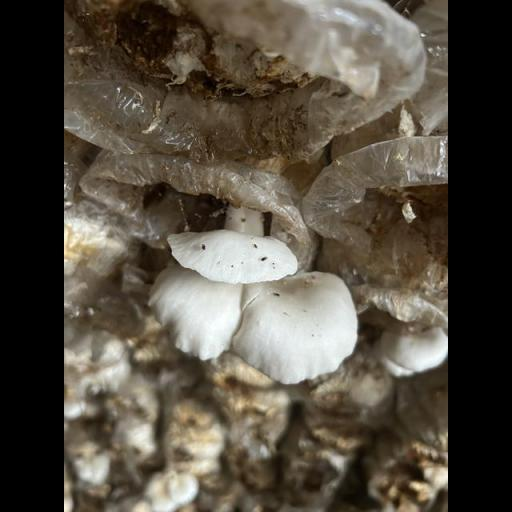White Oyster Mushroom: (150, 263, 247, 362)
